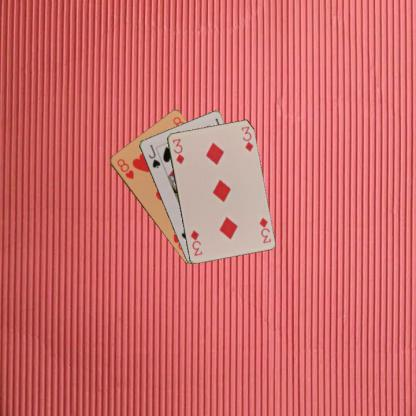3d: (256, 215, 272, 244), (170, 136, 185, 165)
8h: (114, 156, 136, 180)
Js: (146, 142, 161, 169)
